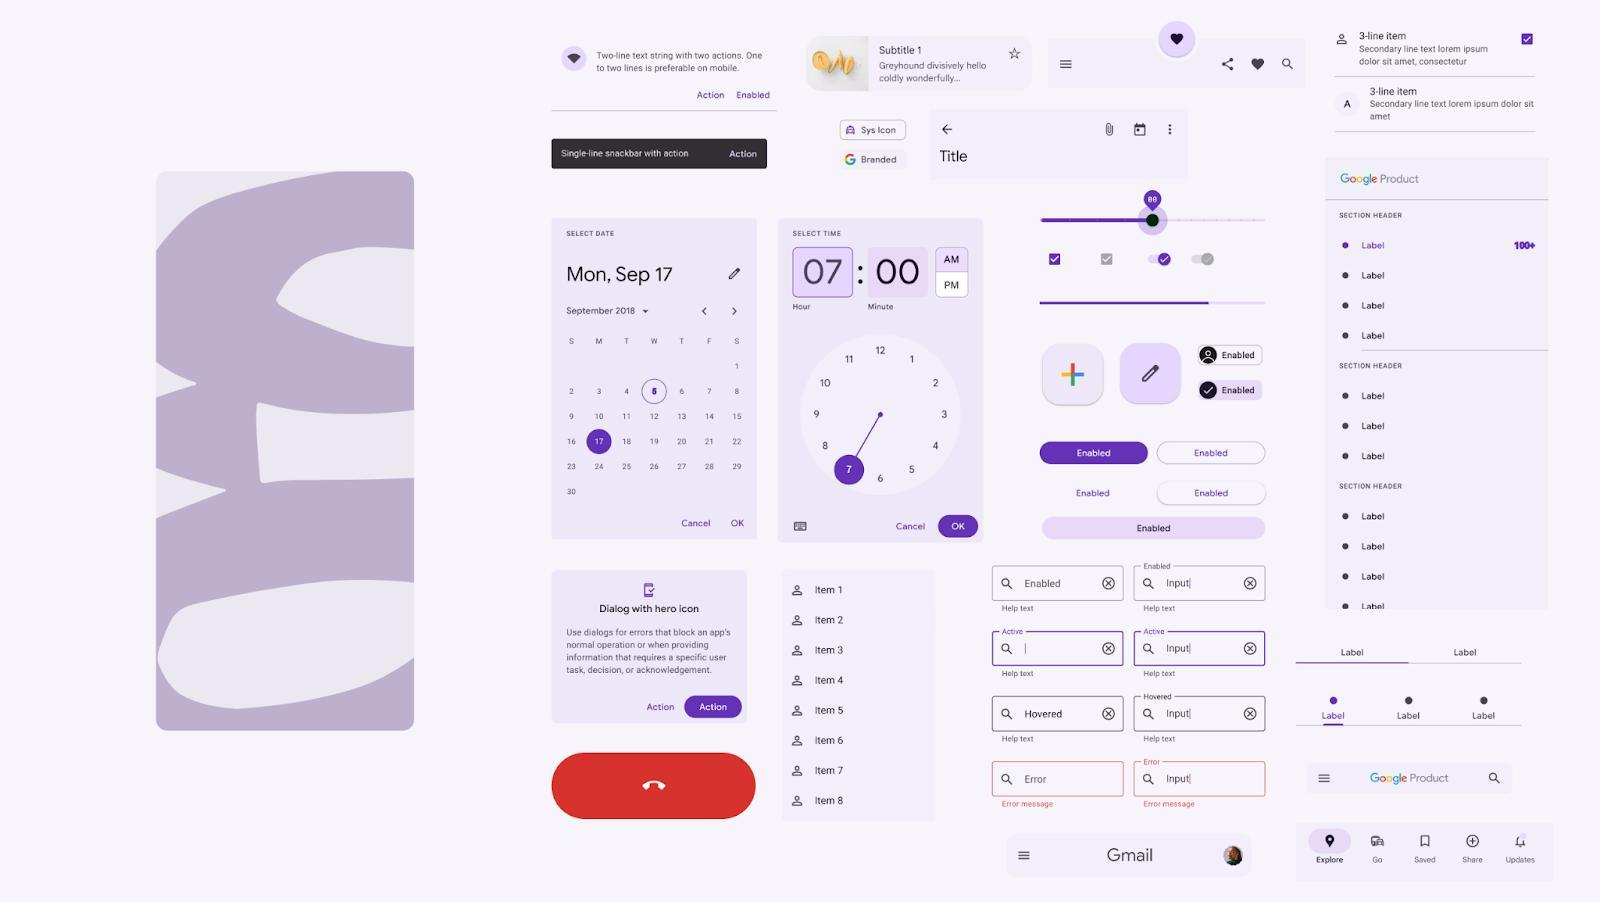button: (553, 751, 757, 820), (553, 140, 768, 171), (1044, 519, 1267, 541), (1157, 442, 1267, 466), (1159, 483, 1269, 506), (1041, 443, 1149, 466), (1200, 345, 1264, 368), (838, 149, 909, 170), (684, 695, 743, 720), (1200, 380, 1263, 401), (841, 120, 905, 140), (938, 515, 980, 541)
checkbox: (1049, 253, 1062, 267), (1102, 254, 1114, 267), (1523, 34, 1535, 46)
icon: (1371, 834, 1388, 851), (1466, 834, 1482, 850), (789, 734, 805, 749), (1018, 849, 1033, 865), (1515, 834, 1530, 850), (1419, 835, 1433, 850), (790, 765, 805, 779), (1171, 34, 1188, 47), (1487, 772, 1502, 786), (792, 645, 805, 660), (1325, 834, 1337, 850), (790, 616, 804, 630), (1318, 773, 1333, 786), (1336, 34, 1349, 47), (791, 586, 805, 598), (792, 673, 803, 689), (792, 705, 804, 719), (792, 797, 805, 806)
input: (995, 567, 1125, 602), (1135, 566, 1266, 601), (995, 697, 1125, 732), (993, 762, 1125, 797), (993, 632, 1124, 666), (1135, 633, 1266, 667), (1135, 698, 1266, 732), (1135, 762, 1266, 797)
label: (1369, 770, 1451, 787), (1104, 845, 1156, 867), (1357, 30, 1411, 45), (938, 146, 975, 167), (815, 734, 848, 749), (813, 704, 847, 719), (814, 794, 846, 809), (646, 701, 677, 715), (815, 673, 846, 688), (737, 90, 774, 102), (680, 519, 715, 531), (814, 645, 846, 658), (696, 90, 727, 103), (813, 765, 846, 777), (815, 614, 845, 627), (815, 586, 846, 597), (895, 523, 927, 533), (1505, 856, 1537, 866), (1316, 856, 1347, 866), (1133, 123, 1149, 140), (1104, 121, 1119, 140), (1221, 57, 1236, 74), (1251, 57, 1267, 73), (1414, 856, 1438, 866), (1059, 58, 1075, 73), (1462, 856, 1486, 865), (1282, 57, 1296, 73), (730, 517, 746, 528), (942, 123, 953, 137), (1167, 123, 1175, 137), (1373, 857, 1385, 866)
slider: (1042, 214, 1266, 229), (1040, 301, 1267, 307)
switch: (1191, 252, 1215, 267), (1149, 253, 1173, 267)
